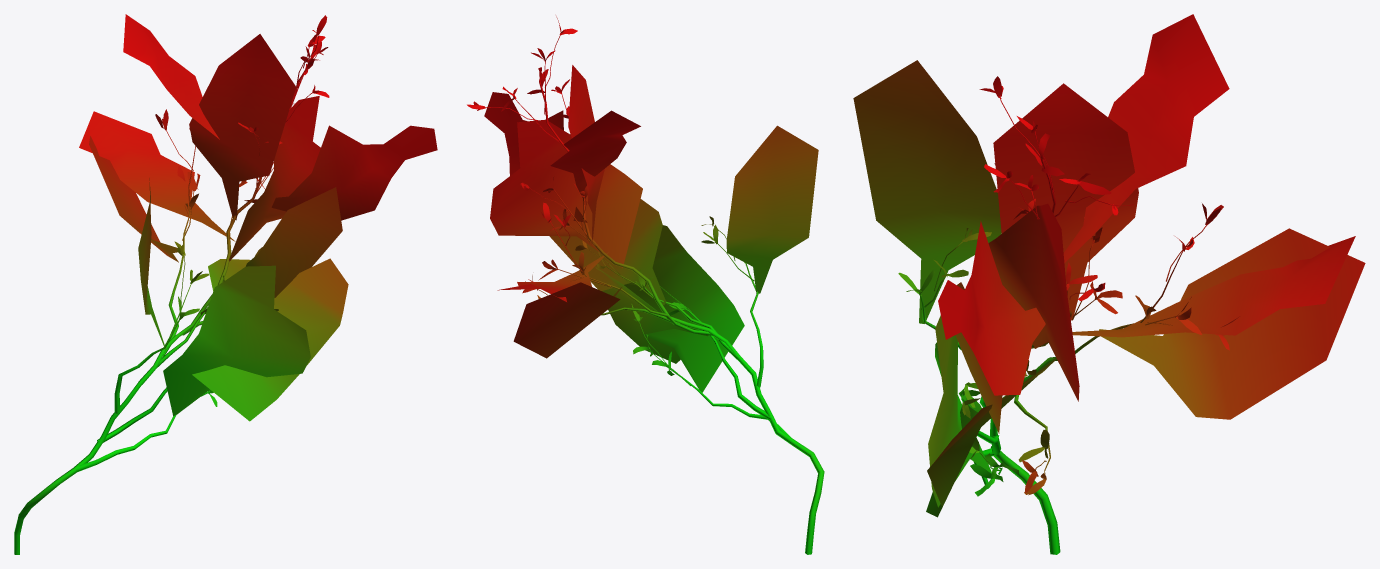
The model's file is Downy Willow_LOD5_Var6_wknlfiuqx.fbx.
3 views of the same model, side by side, from view 1: azimuth 30°, elevation 25°; view 2: azimuth 150°, elevation 25°; view 3: azimuth 270°, elevation 25° (orthographic). The views are drawn at different scales.
Parts seen in each view (by area): view 1: _sqis_Var6_LOD5; view 2: _sqis_Var6_LOD5; view 3: _sqis_Var6_LOD5.
Boxes of the visible parts, x1,y1,x2,y2 form: _sqis_Var6_LOD5: [14, 14, 437, 554]; _sqis_Var6_LOD5: [467, 16, 824, 554]; _sqis_Var6_LOD5: [853, 14, 1365, 554].
Bounding box in the file's own units: 116 × 140 × 96.34.
